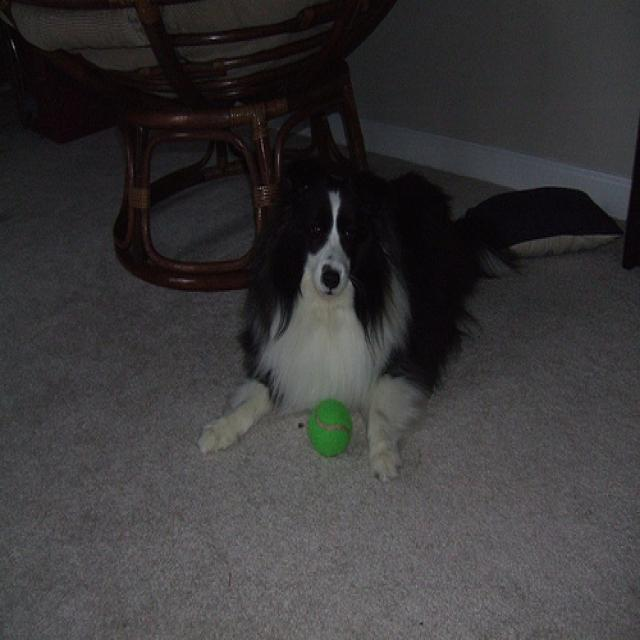Dog: (224, 144, 618, 500)
